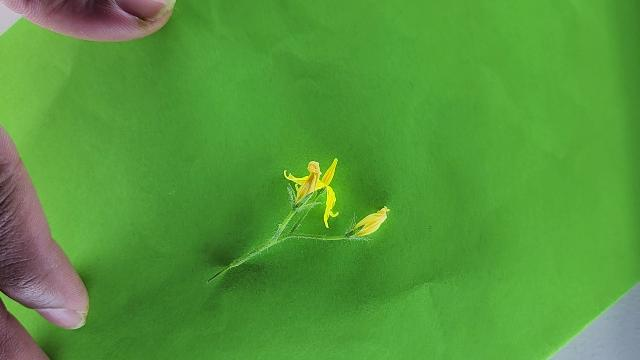Anthesis: (283, 155, 340, 227), (349, 205, 391, 238)
